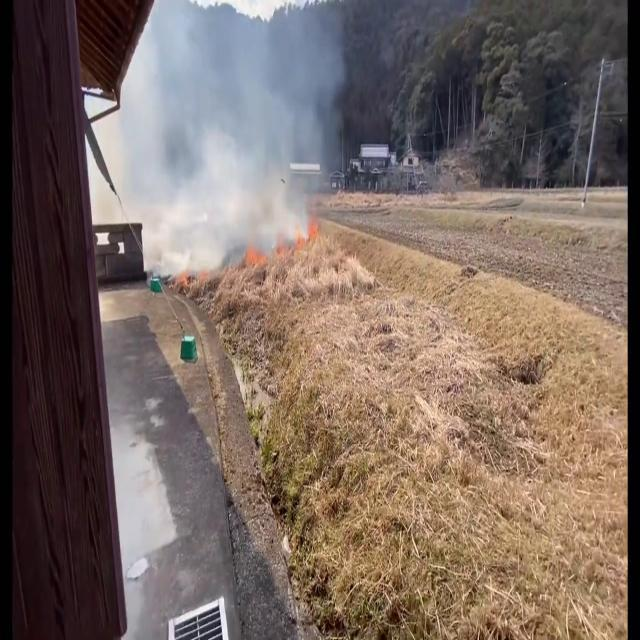Smoke: (111, 0, 343, 294)
